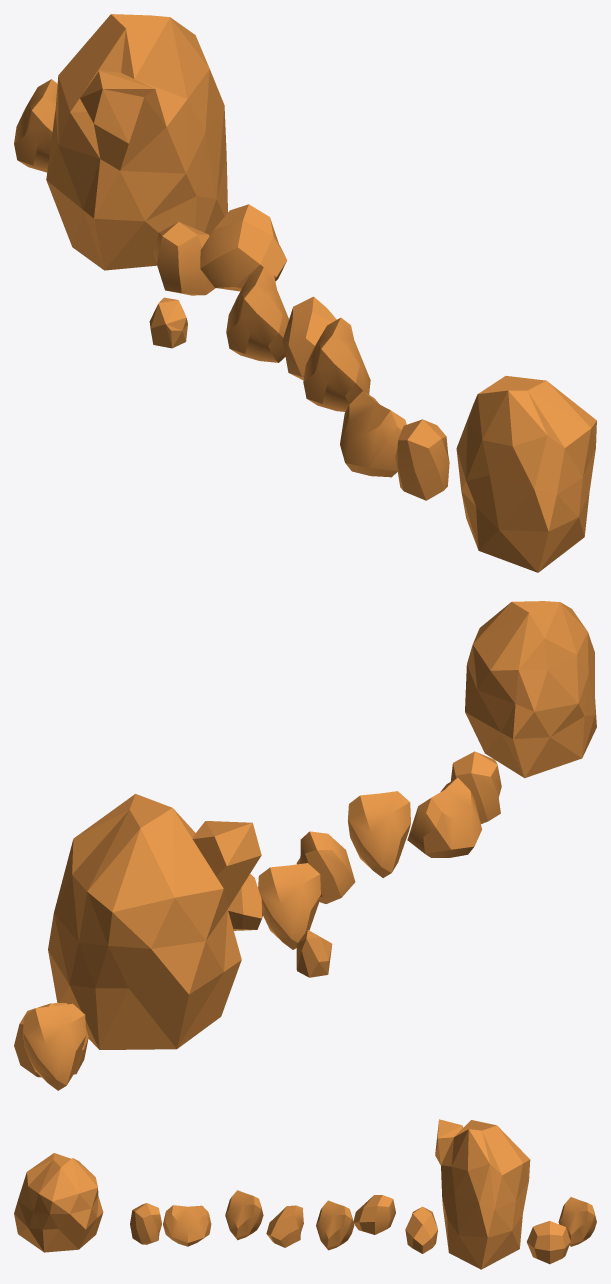
Rendered from rock1.fbx.
3 views of the same model, one above another, from view 1: azimuth 30°, elevation 25°; view 2: azimuth 150°, elevation 25°; view 3: azimuth 270°, elevation 25° (orthographic). The views are drawn at different scales.
Parts seen in each view (by area): view 1: Icosphere.001, Icosphere.002, rock.007, rock.010, rock.008, rock.003, rock.009, rock.002, rock.011, rock.006, Icosphere; view 2: Icosphere.001, Icosphere.002, rock.003, rock.008, rock.011, rock.010, rock.006, rock.009, rock.007, Icosphere, rock.004; view 3: Icosphere.001, Icosphere.002, rock.003, rock.004, rock.008, rock.010, rock.011, rock.007, rock.006, rock.002, rock.009.
Boxes of the visible parts, <box> form: Icosphere.001: <box>46,14,227,270</box>; Icosphere.002: <box>456,376,596,572</box>; rock.007: <box>200,204,287,291</box>; rock.010: <box>226,267,288,362</box>; rock.008: <box>303,317,370,411</box>; rock.003: <box>340,391,406,477</box>; rock.009: <box>395,419,449,500</box>; rock.002: <box>153,222,215,295</box>; rock.011: <box>14,79,57,172</box>; rock.006: <box>282,296,336,380</box>; Icosphere: <box>149,297,187,348</box>; Icosphere.001: <box>48,794,261,1049</box>; Icosphere.002: <box>465,601,596,778</box>; rock.003: <box>407,777,481,857</box>; rock.008: <box>347,791,410,877</box>; rock.011: <box>23,1003,85,1090</box>; rock.010: <box>258,863,320,949</box>; rock.006: <box>296,831,355,903</box>; rock.009: <box>450,751,501,823</box>; rock.007: <box>228,874,264,930</box>; Icosphere: <box>296,930,332,977</box>; rock.004: <box>14,1003,88,1077</box>; Icosphere.001: <box>435,1119,530,1269</box>; Icosphere.002: <box>14,1153,103,1252</box>; rock.003: <box>163,1205,211,1246</box>; rock.004: <box>527,1221,570,1264</box>; rock.008: <box>225,1190,263,1240</box>; rock.010: <box>316,1200,354,1250</box>; rock.011: <box>558,1197,596,1246</box>; rock.007: <box>353,1195,395,1234</box>; rock.006: <box>266,1205,303,1247</box>; rock.002: <box>405,1206,437,1253</box>; rock.009: <box>130,1203,161,1244</box>.
Size of the model in its own units: 1032 by 1309 by 5305.
